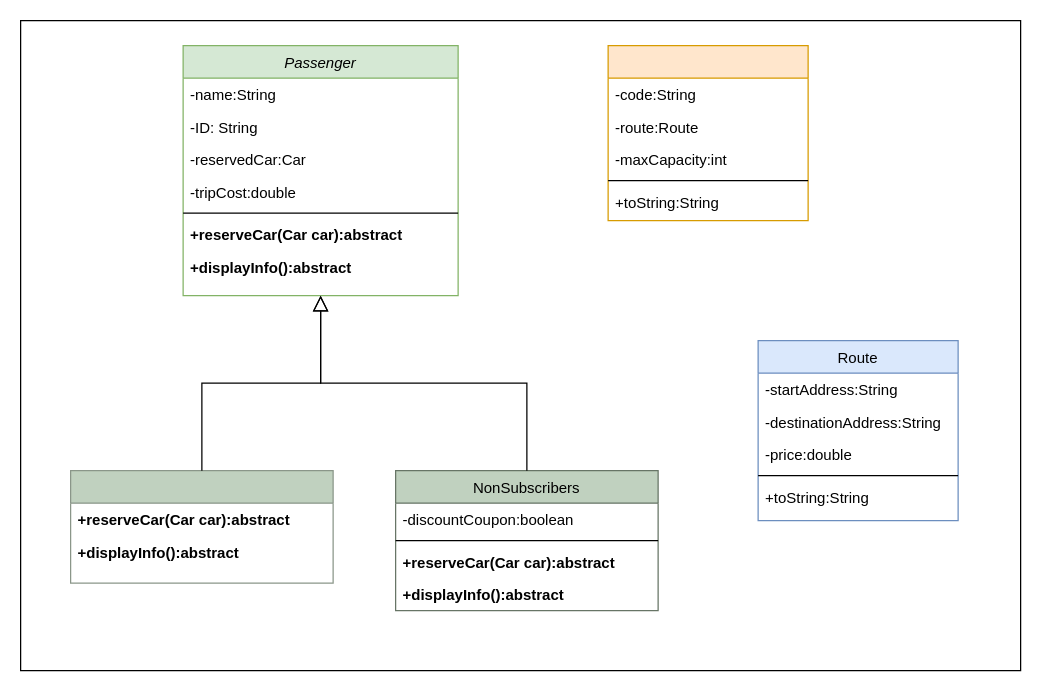
The diagram is 1041 pixels wide and 691 high, and some of its shapes have lost their labels. Here are the shapes that lost their labels. From the top down, the box of each, then its label:
(607, 44, 808, 221): Car
(69, 469, 333, 583): Subscribers
